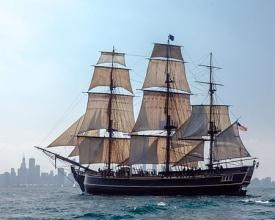fanchuan: (32, 32, 257, 190)
